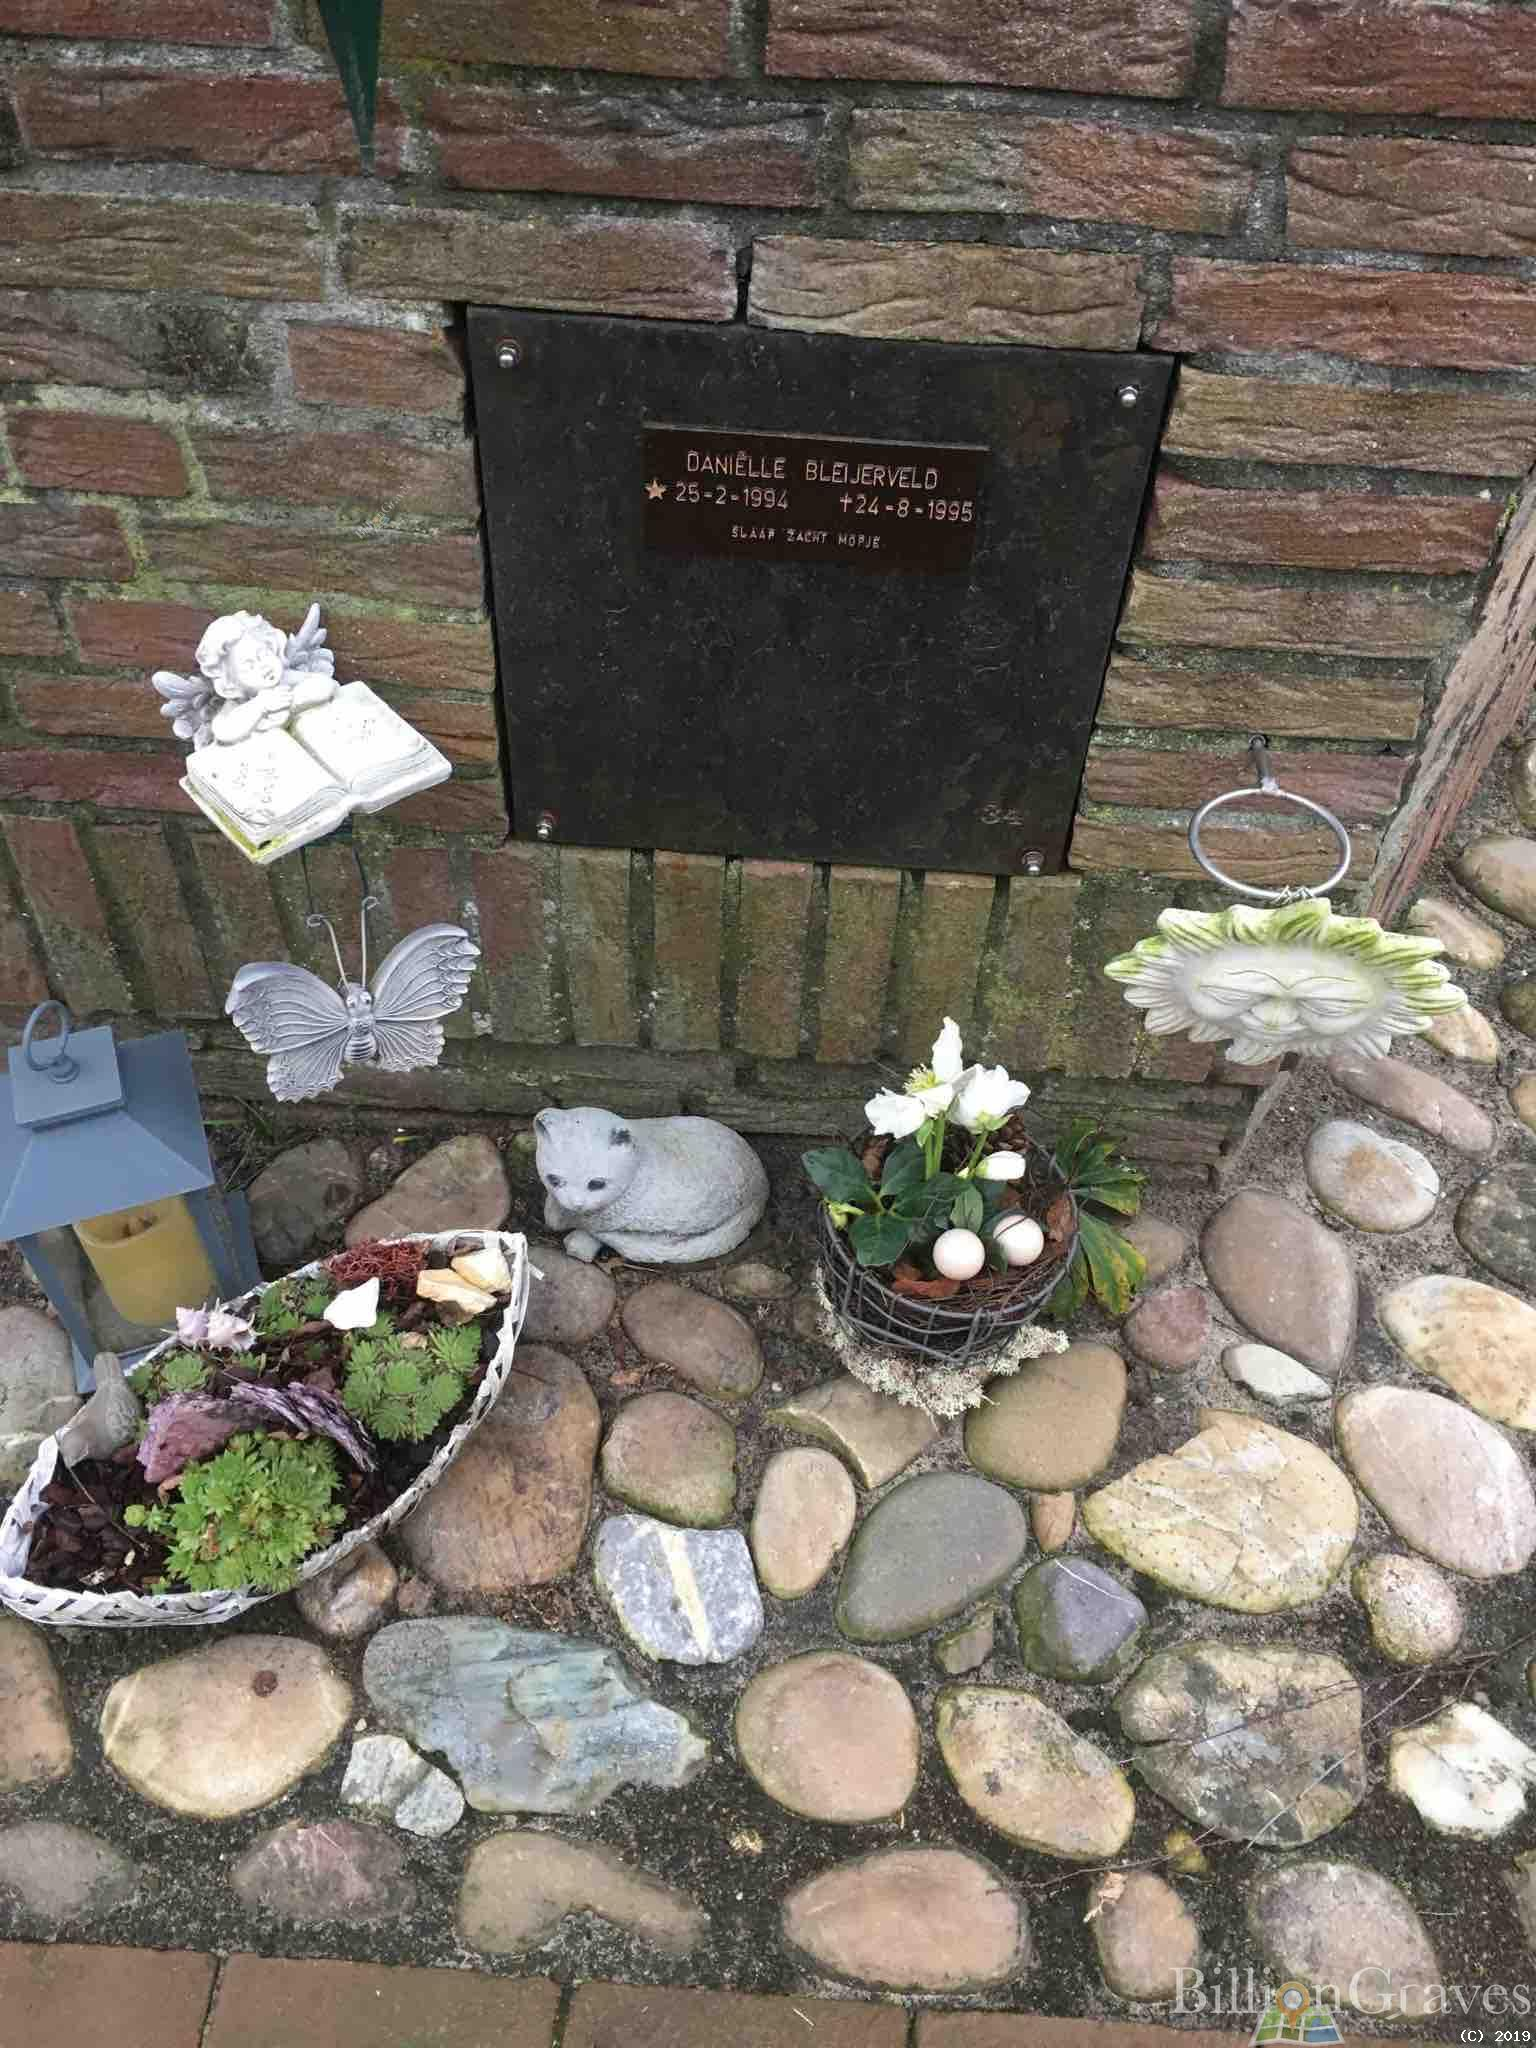plaque: (428, 276, 1194, 890)
